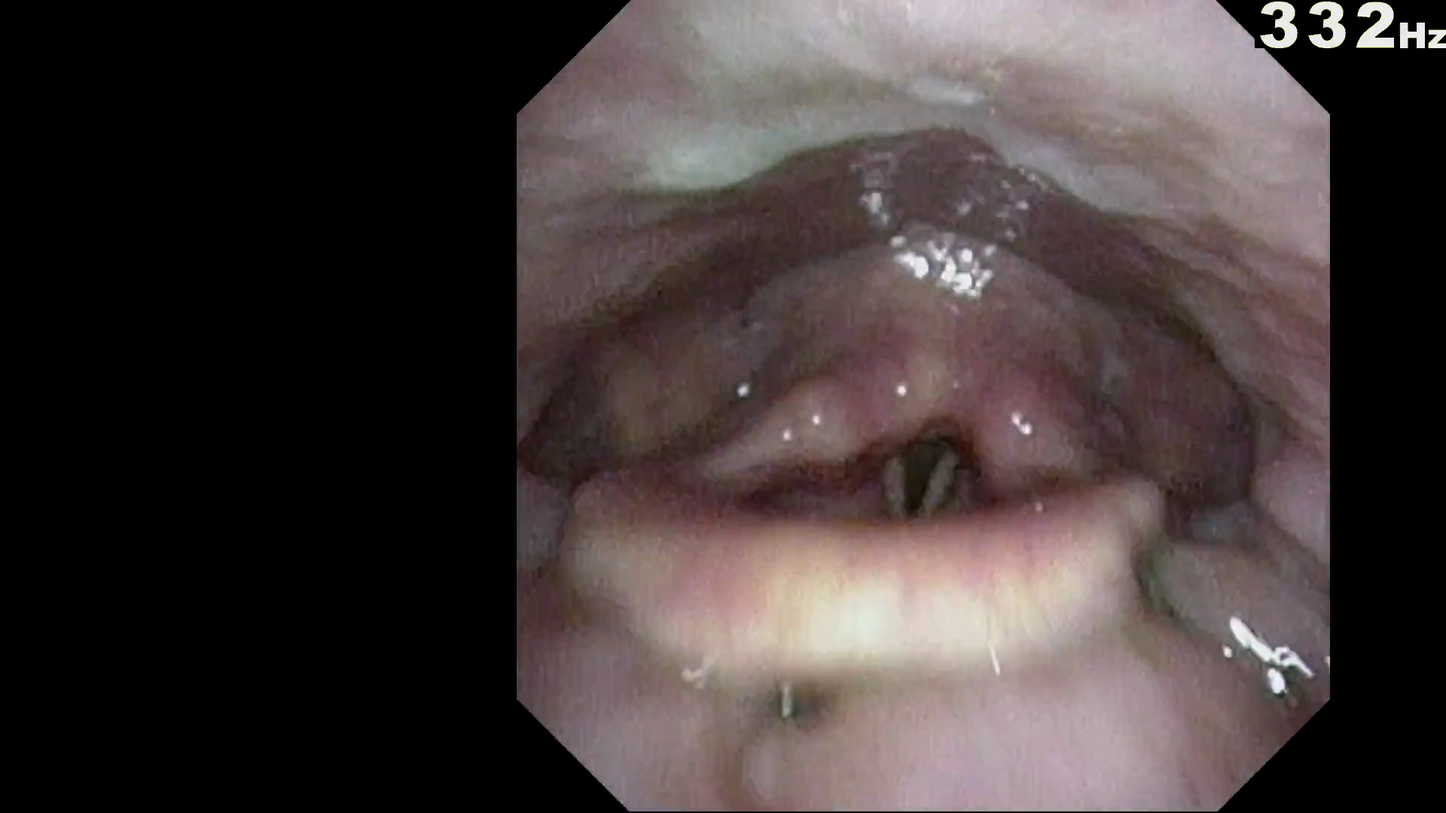epiglottis: (597, 398, 1210, 558)
